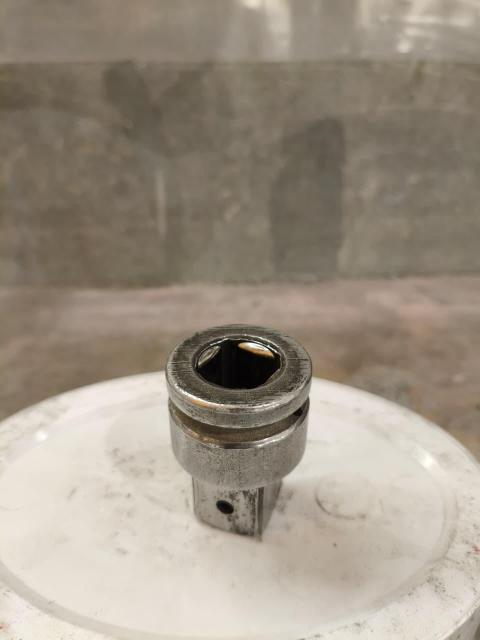Metal: (167, 317, 315, 537)
